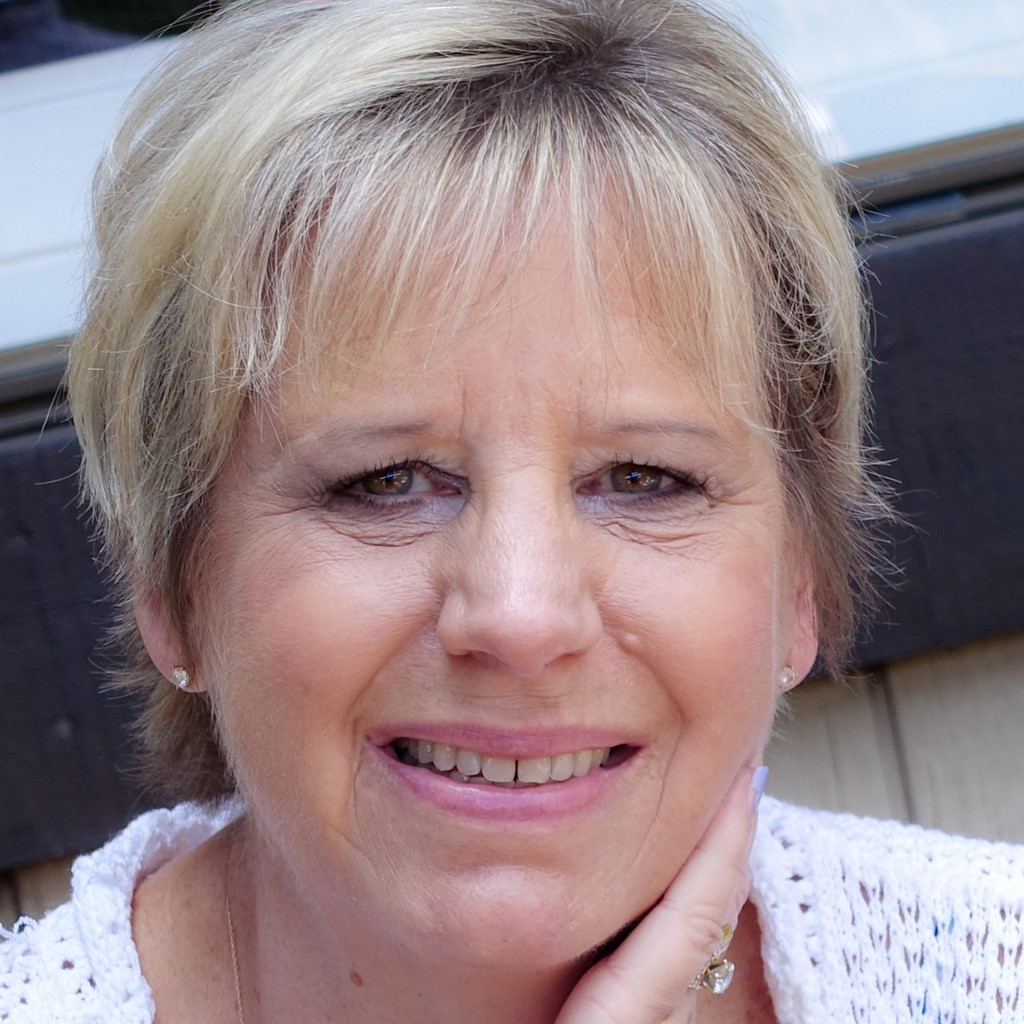sin_mascara: (149, 82, 820, 989)
